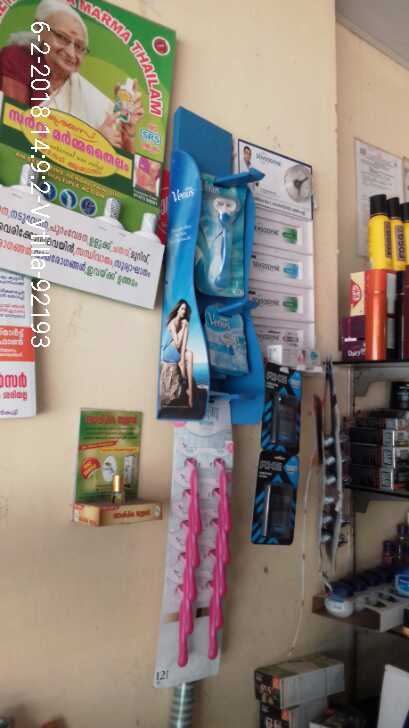venus: (196, 177, 250, 300), (209, 304, 247, 371)
